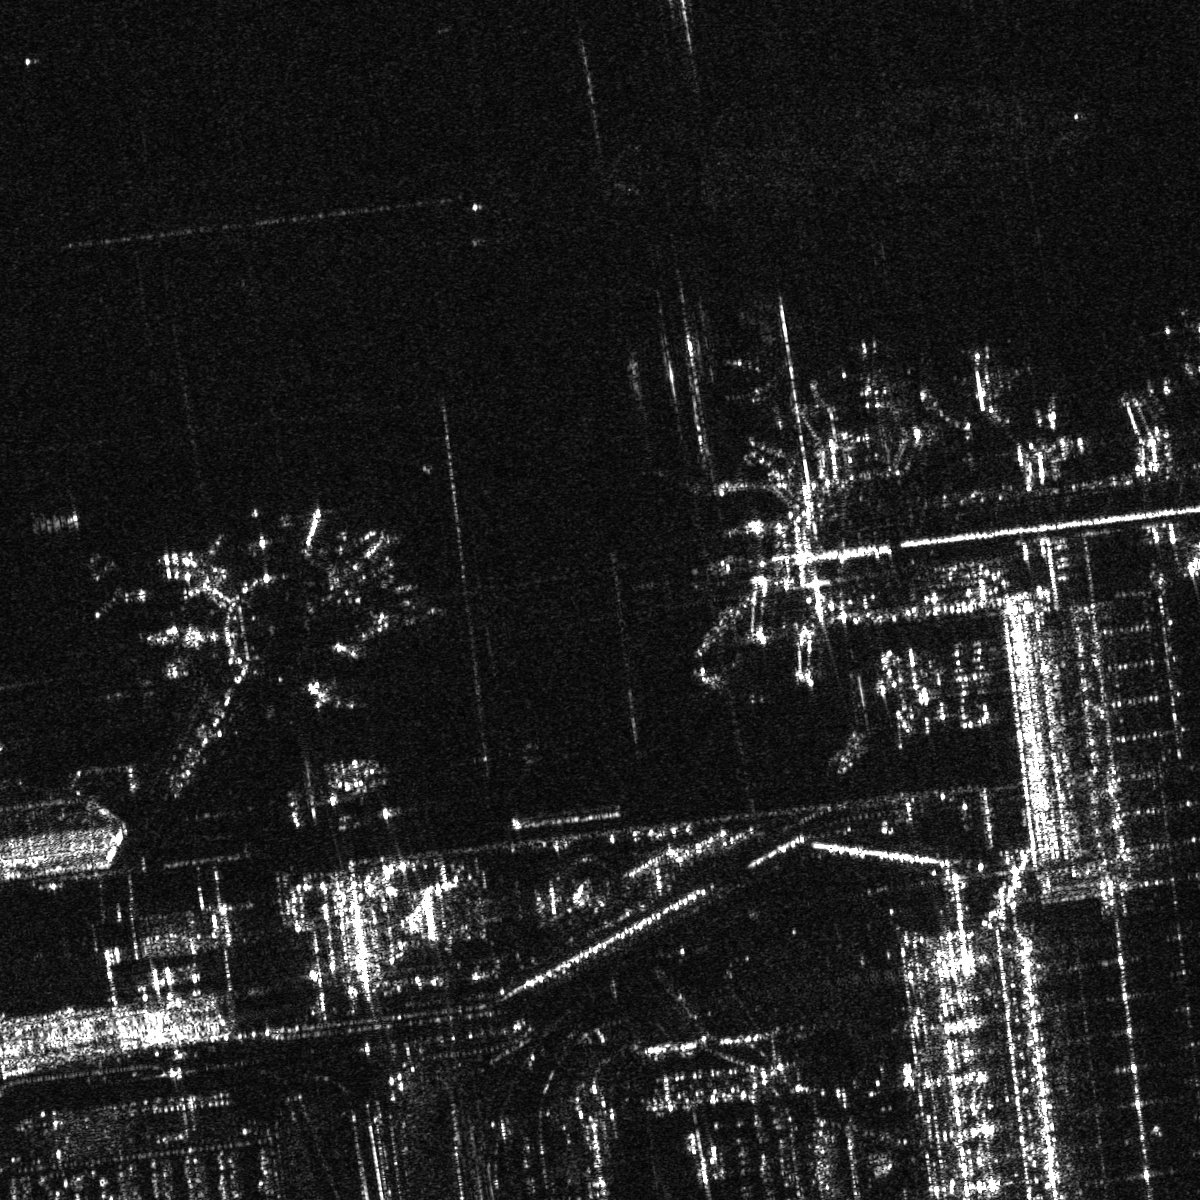A220: (944, 342, 1025, 416), (842, 334, 913, 408), (93, 555, 151, 620), (112, 669, 157, 710)
Boeing737: (723, 354, 789, 408)
